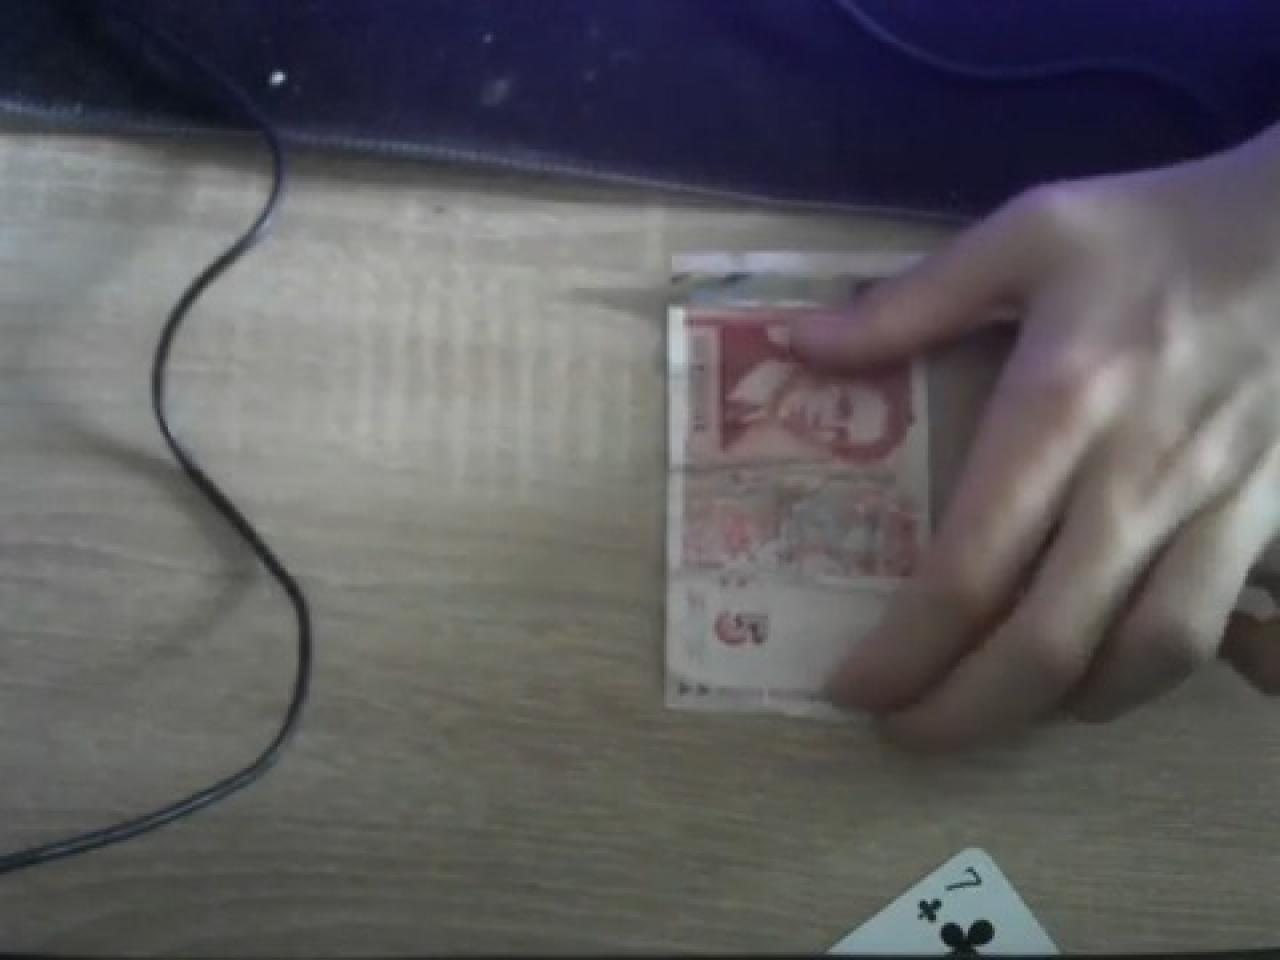5leva: (666, 290, 936, 709)
